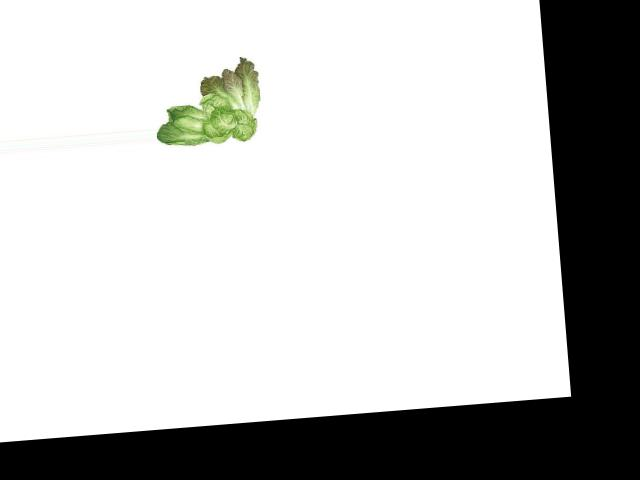lettuce: (150, 50, 266, 154)
